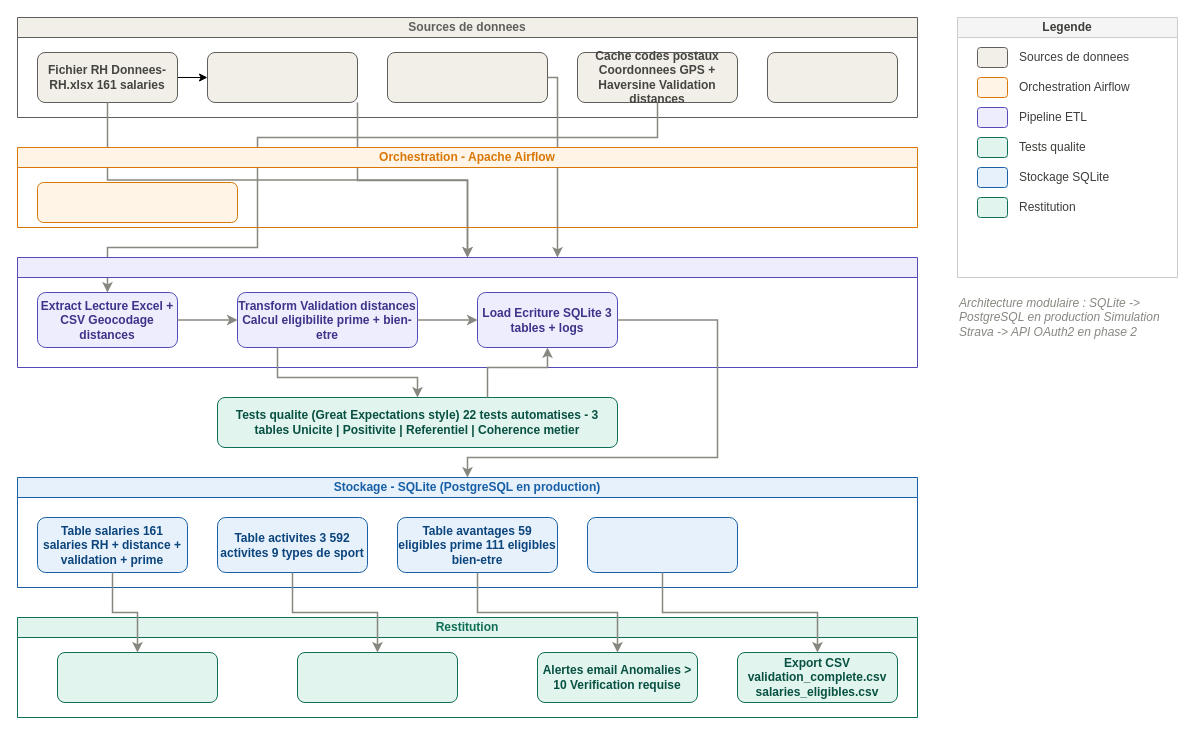
The diagram is 1195 pixels wide and 735 high, and some of its shapes have lost their labels. Here are the shapes that lost their labels. From the top down, the box of each, then its label:
(206, 52, 358, 102): Declarations sportives Donnees-Sportive.xlsx Sports declares
(386, 52, 548, 102): Activites Strava (simule) strava_activities.csv 3 592 activites / 12 mois
(766, 52, 898, 102): API Nominatim (test) Geocodage adresses OpenStreetMap
(36, 182, 238, 222): DAG poc_avantages_sportifs Execution quotidienne 6h Monitoring + Alertes email
(16, 256, 918, 368): Pipeline ETL Python (Pandas)
(586, 516, 738, 572): Table logs Monitoring pipeline Historique executions
(56, 652, 218, 702): Dashboard Streamlit KPI interactifs Filtres dynamiques
(296, 652, 458, 702): Notifications Slack Messages automatiques Webhook
